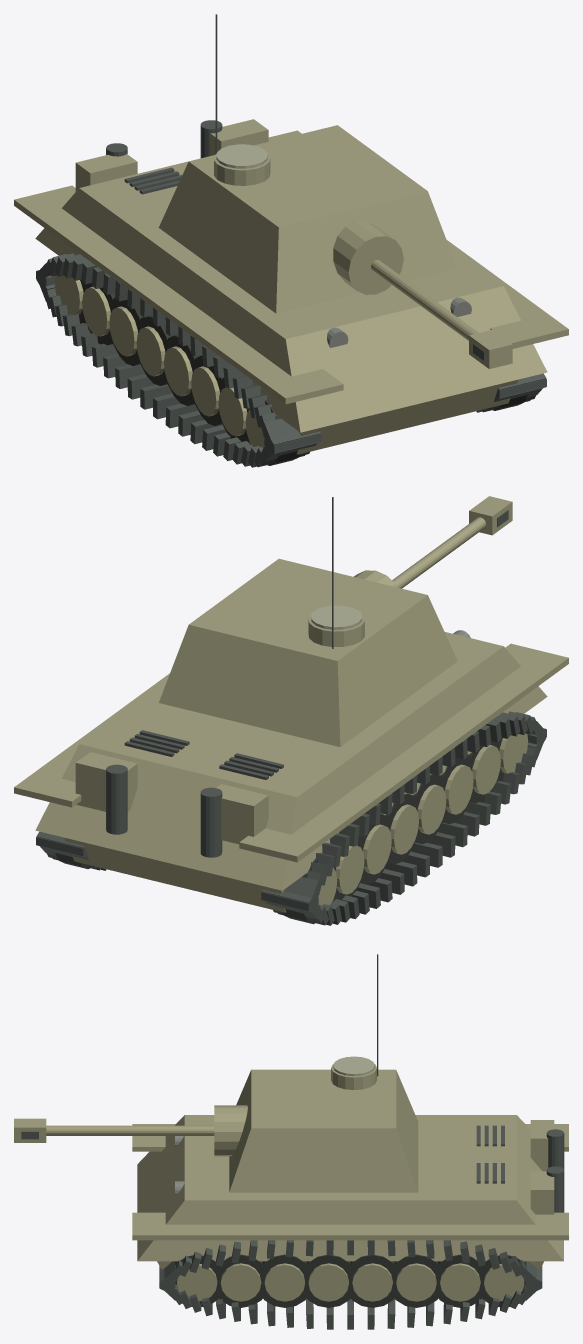
File: tiger_i.glb
The picture shows the model from 3 angles, top to bottom: view 1: azimuth 30°, elevation 25°; view 2: azimuth 150°, elevation 25°; view 3: azimuth 270°, elevation 25°; orthographic projection. The views are drawn at different scales.
Parts seen in each view (by area): view 1: Hull, Turret, Fender, LowerHull, Mantlet, Fender.001, Gun, Stowage, Stowage.001, MuzzleBrake, WheelHub.003, WheelHub.005 (+8 smaller); view 2: Hull, Turret, Fender, LowerHull, Fender.001, Stowage, Stowage.001, Exhaust, Exhaust.001, Gun, WheelHub.004, WheelHub.003 (+10 smaller); view 3: Hull, Turret, Fender.001, Gun, Mantlet, WheelHub.012, WheelHub.014, WheelHub.013, WheelHub.009, WheelHub.011, WheelHub.010, Stowage.001 (+15 smaller).
Part boxes in pixels (x1,y1,x2,y2): Hull: (35,141,547,432); Turret: (158,125,457,313); Fender: (14,185,343,404); LowerHull: (297,379,518,454); Mantlet: (333,221,403,294); Fender.001: (268,130,568,348); Gun: (371,260,478,340); Stowage: (75,154,137,191); Stowage.001: (210,119,268,155); MuzzleBrake: (469,330,512,368); WheelHub.003: (164,346,192,396); WheelHub.005: (109,306,137,356); Hull: (35,632,547,890); Turret: (159,558,457,747); Fender: (239,643,568,862); LowerHull: (64,837,285,912); Fender.001: (14,673,169,807); Stowage: (216,784,268,844); Stowage.001: (75,752,137,812); Exhaust: (200,787,222,857); Exhaust.001: (106,764,127,834); Gun: (392,517,485,588); WheelHub.004: (390,804,418,854); WheelHub.003: (417,784,446,834); Hull: (137,1115,563,1261); Turret: (229,1069,418,1192); Fender.001: (132,1212,568,1240); Gun: (46,1125,214,1135); Mantlet: (214,1105,247,1156); WheelHub.012: (352,1263,392,1301); WheelHub.014: (440,1263,480,1301); WheelHub.013: (396,1263,436,1301); WheelHub.009: (220,1263,261,1301); WheelHub.011: (308,1263,348,1301); WheelHub.010: (264,1263,304,1301); Stowage.001: (530,1171,554,1214).
Bounding box in the file's own units: 3.9 × 4.89 × 8.22.
